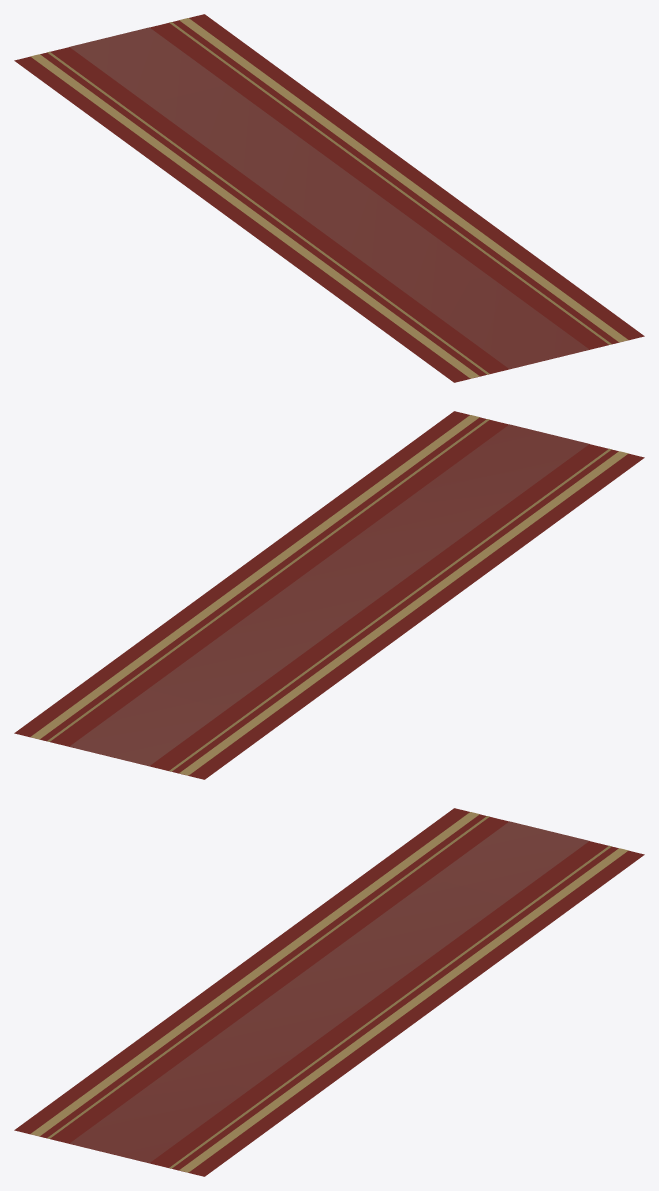
File: library.runner.red.glb
The picture shows the model from 3 angles, top to bottom: view 1: azimuth 30°, elevation 25°; view 2: azimuth 150°, elevation 25°; view 3: azimuth 330°, elevation 25°; orthographic projection.
Visible parts, largest first — view 1: library_runner_red; view 2: library_runner_red; view 3: library_runner_red.
Part boxes in pixels (x1,y1,x2,y2): library_runner_red: (14,14,644,382); library_runner_red: (14,411,644,779); library_runner_red: (14,808,644,1176).
Size of what is drawn, in the model's own units: 2 by 0.002 by 8.
